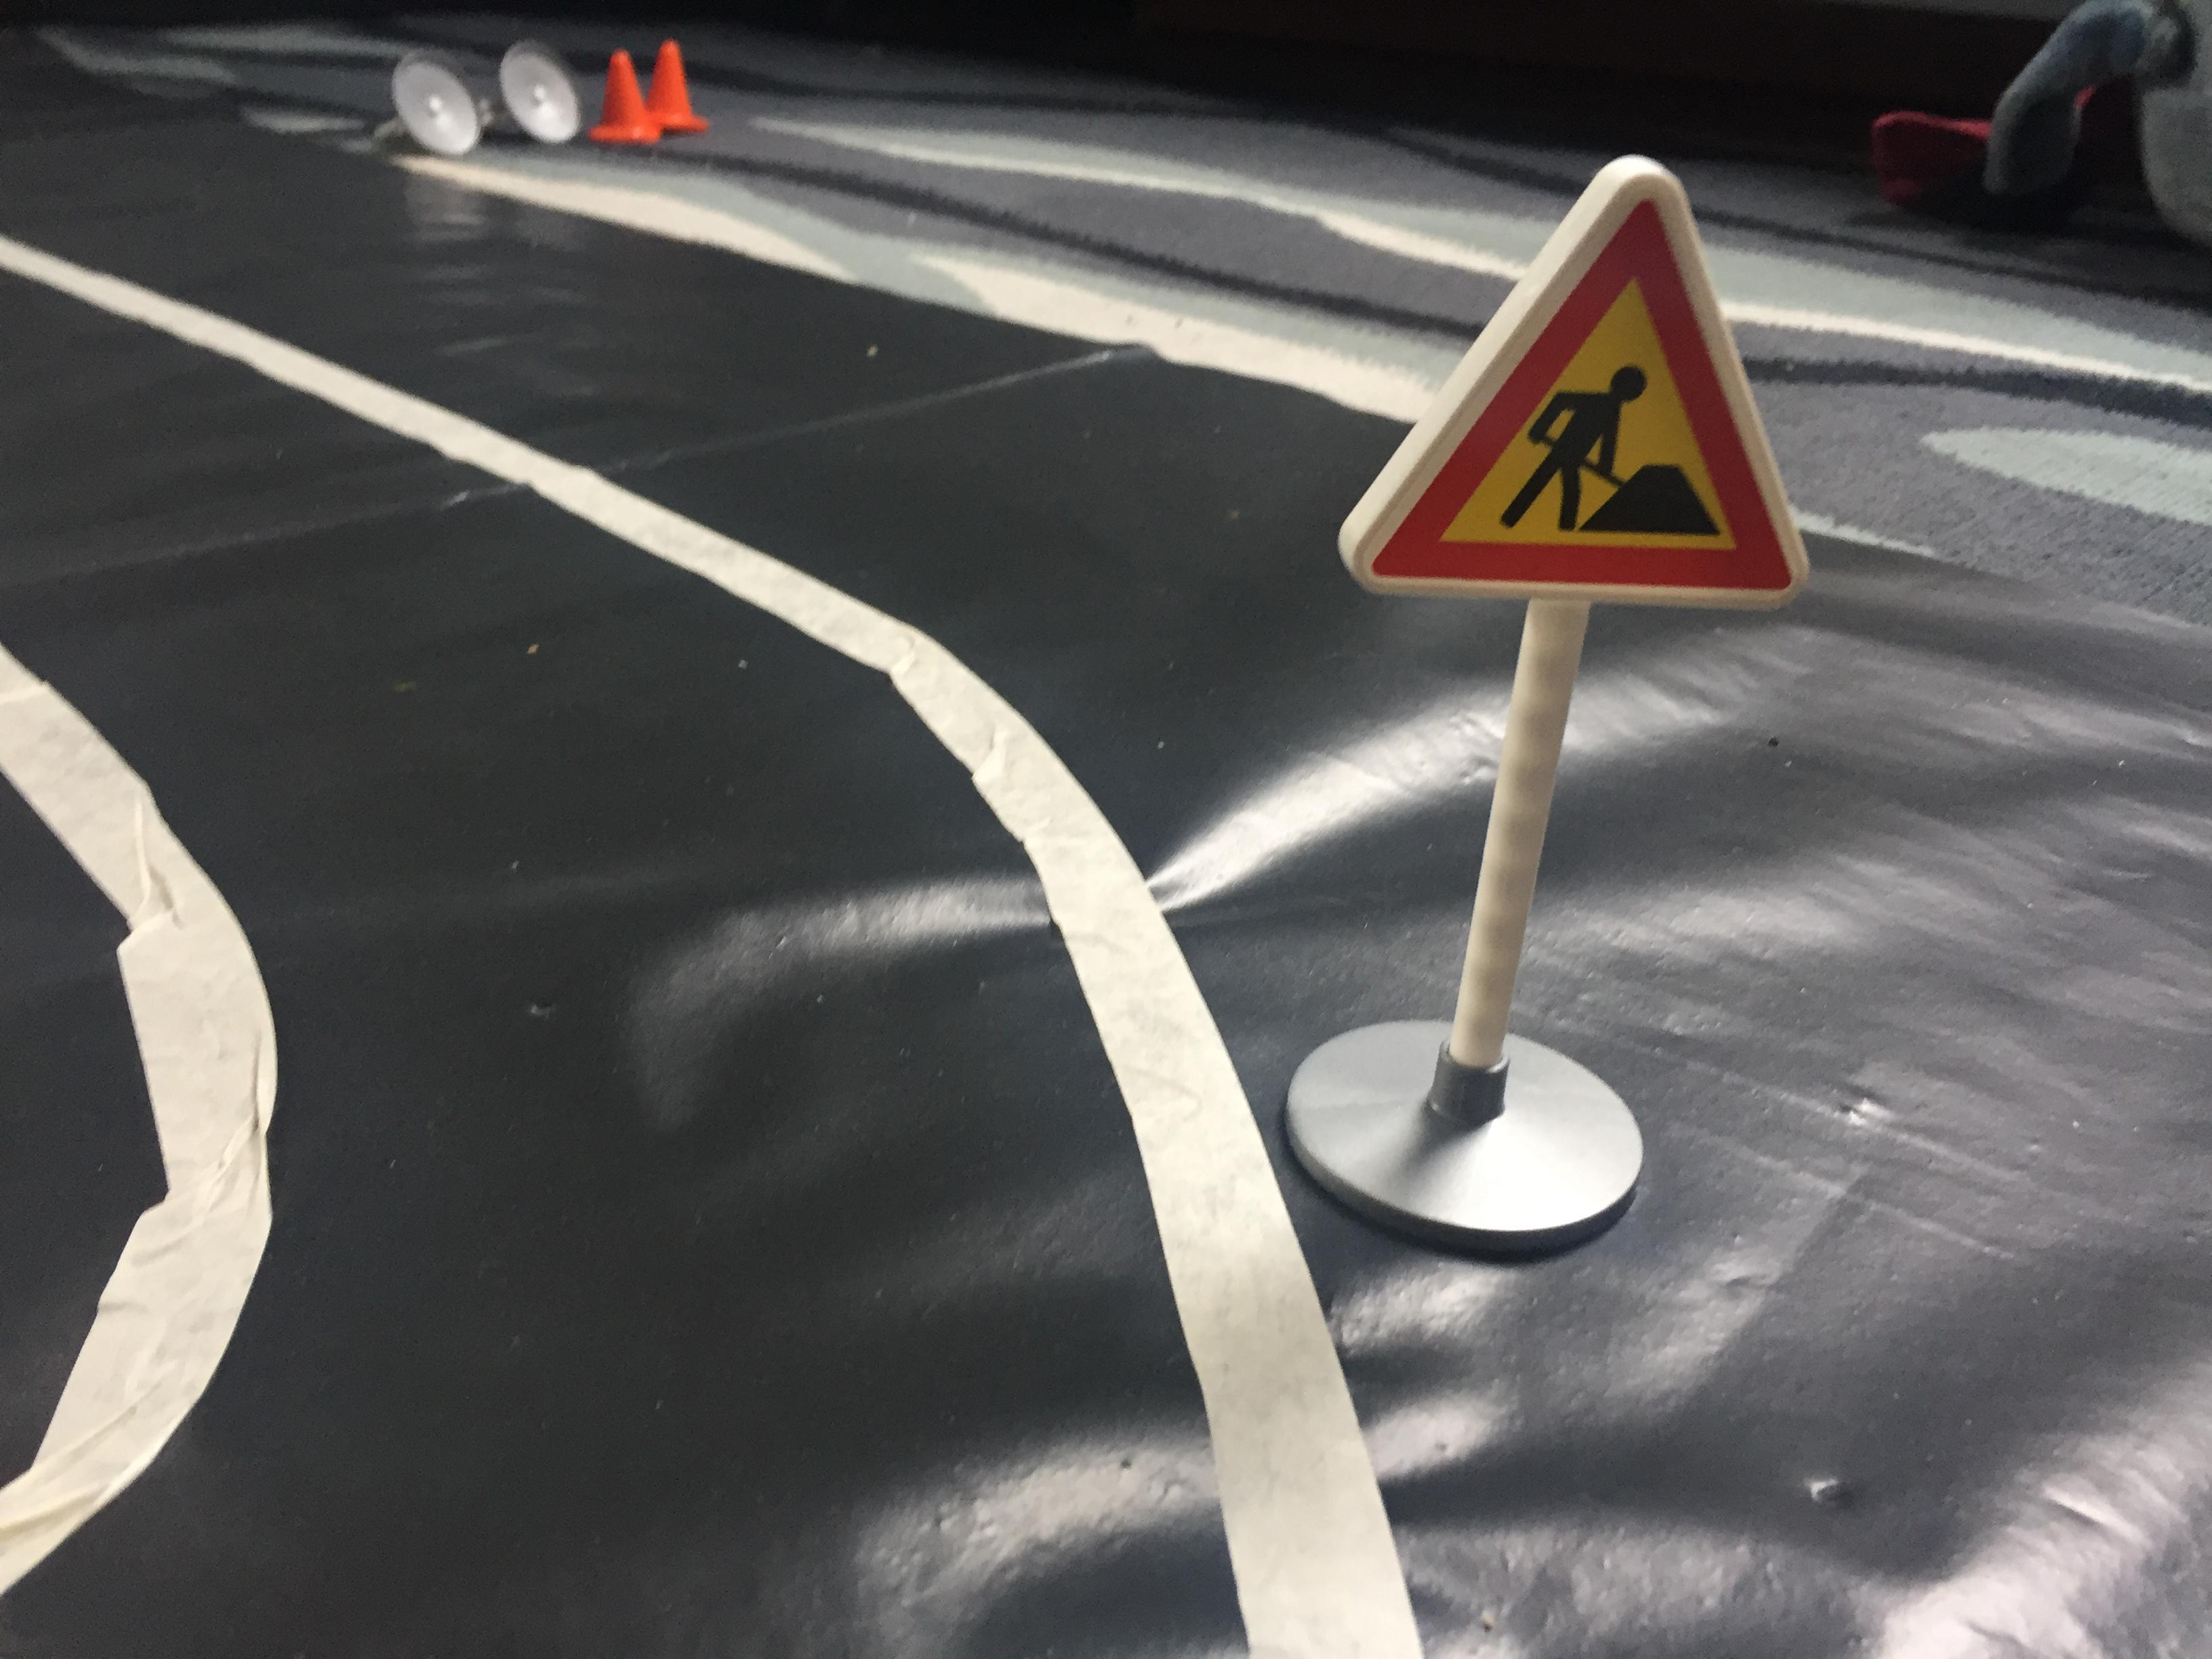work: (1331, 146, 1848, 620)
